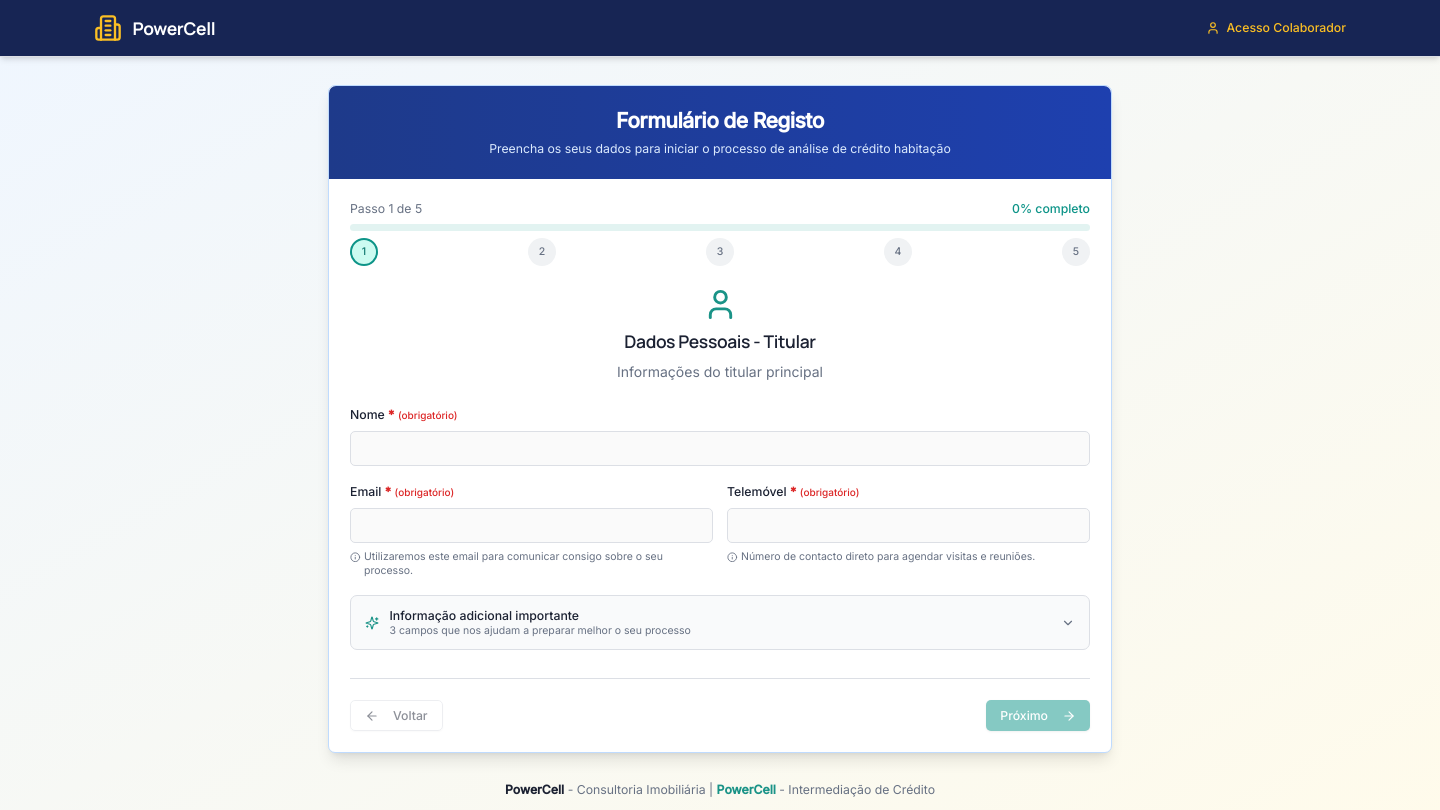
Test: PublicClientForm — stress-free (Ponto 9) › a barra de progresso conta SÓ os campos que bloqueiam
The width and height of the screenshot is (1440, 810).
Step 1. Type "Ana Silva" into the field labelled "Nome *(obrigatório)" → (720, 448), box [350,431,1090,466]
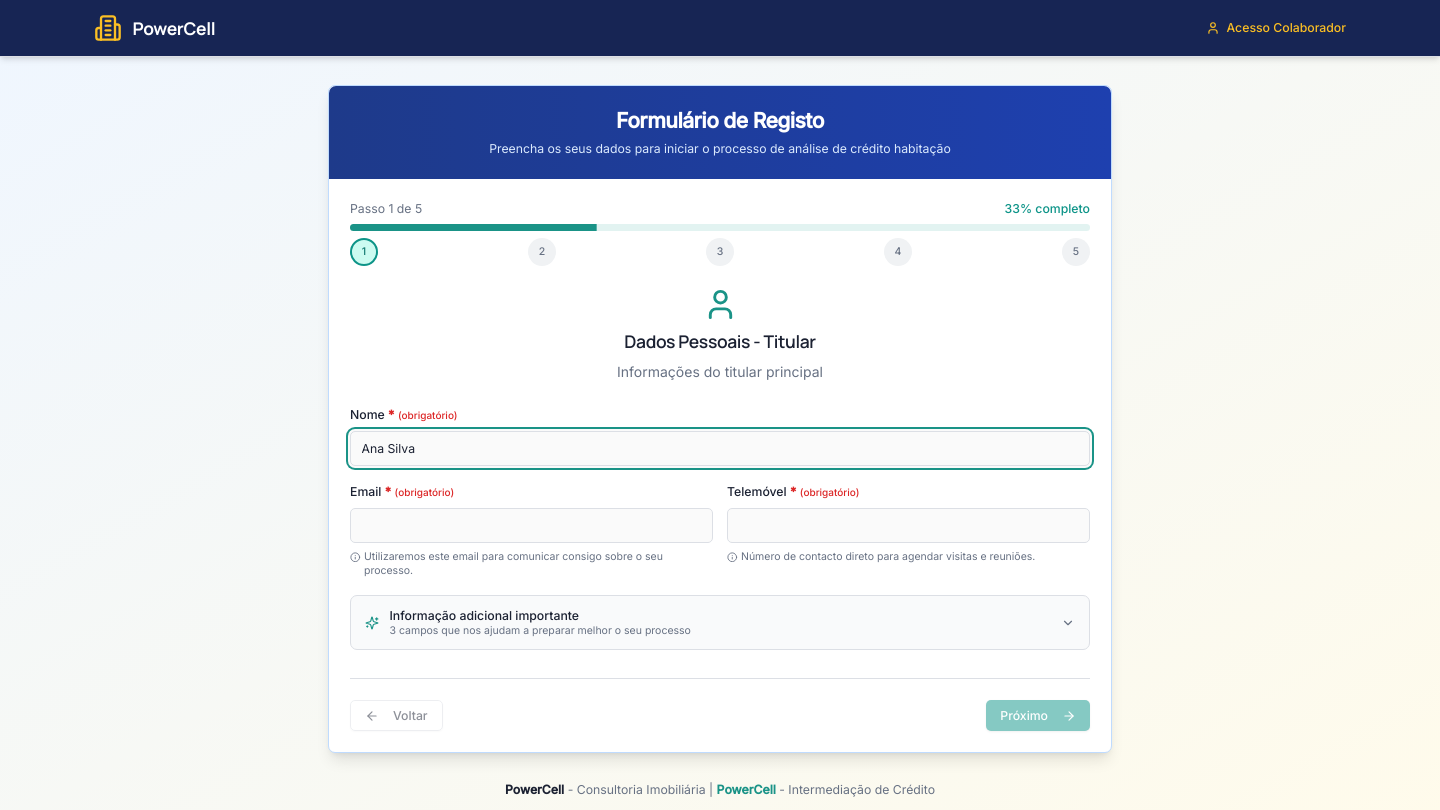
Step 2. Type "ana@exemplo.pt" into the field labelled "Email *(obrigatório)" → (532, 525), box [350,508,713,543]
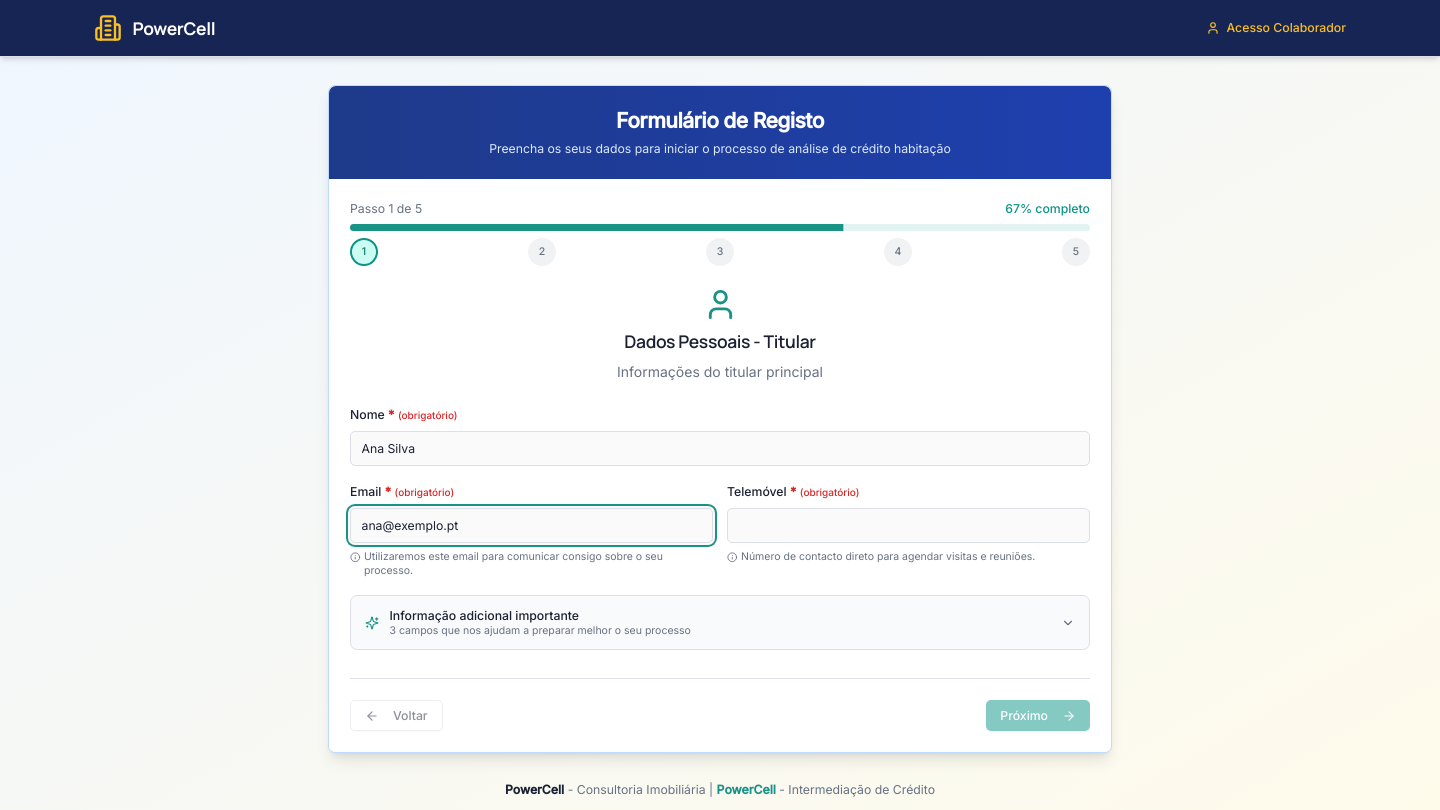
Step 3. Type "912345678" into the field labelled "Telemóvel *(obrigatório)" → (908, 525), box [727,508,1090,543]
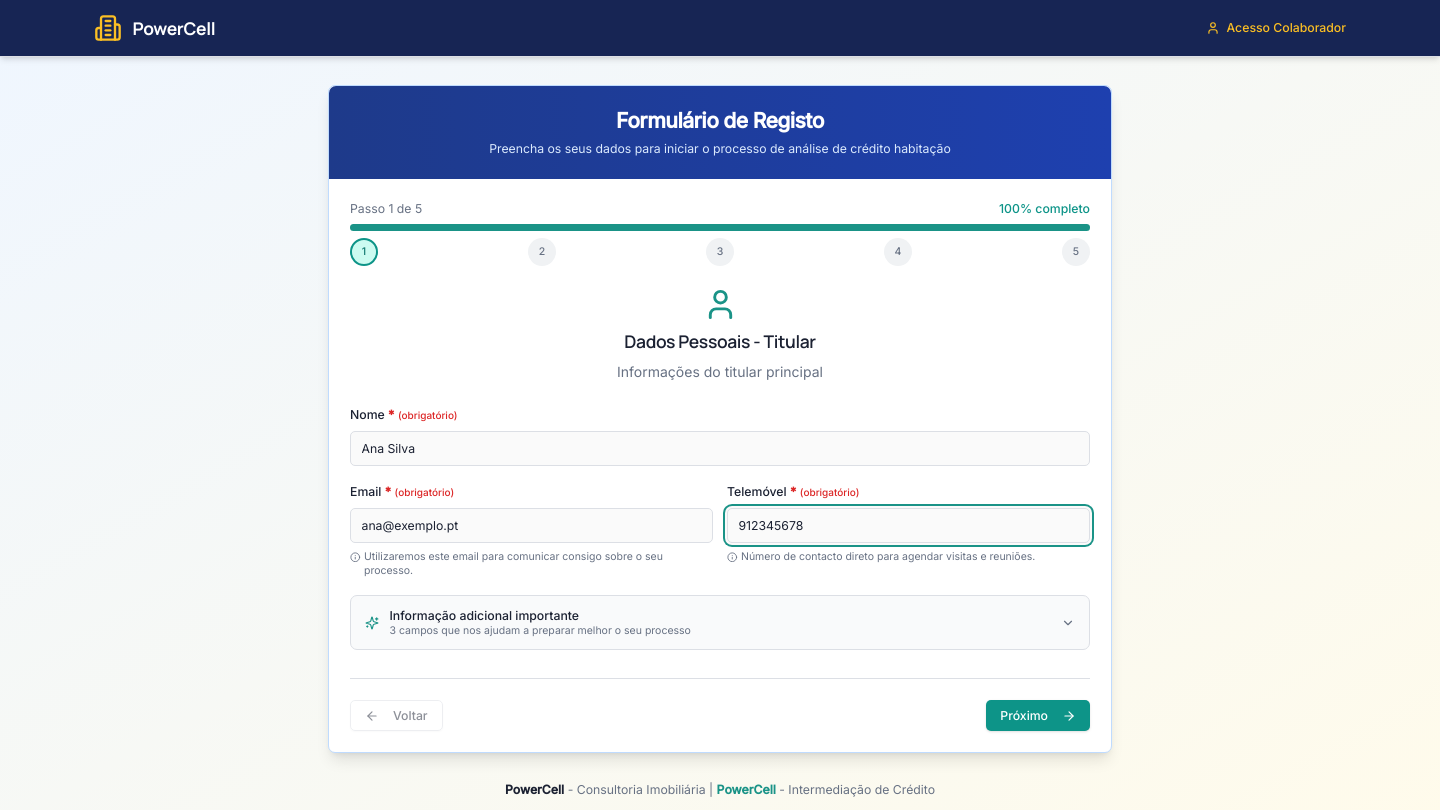
Expected: the text "100% completo" is shown, [999,200,1090,217]
